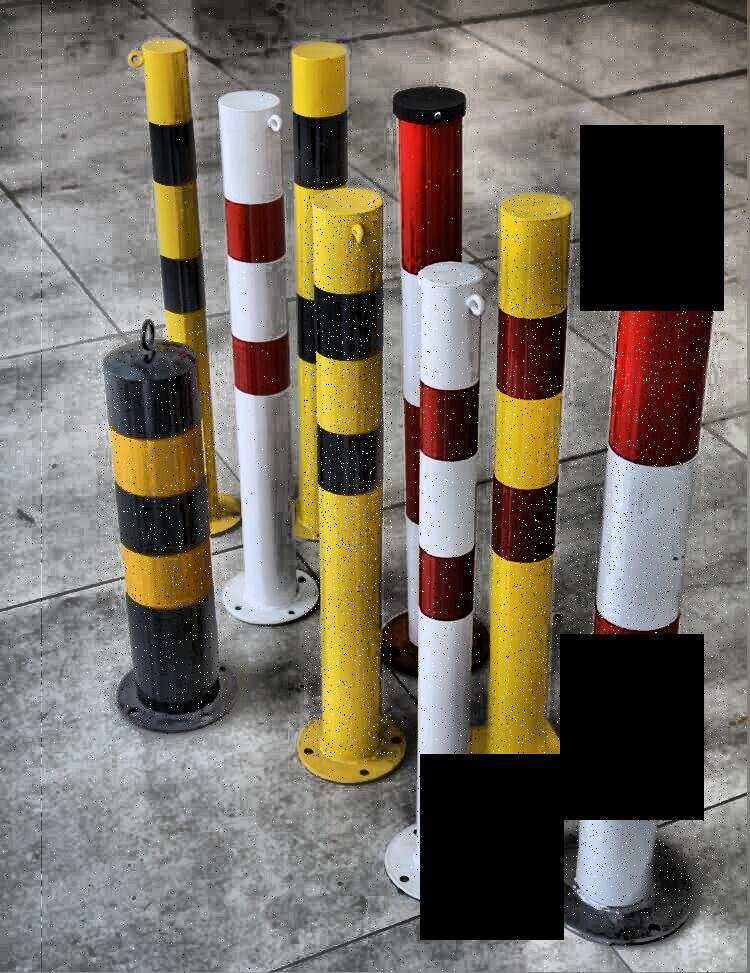bench: (566, 225, 725, 919), (98, 320, 231, 726), (304, 179, 393, 758), (490, 186, 563, 780), (413, 261, 481, 880)
